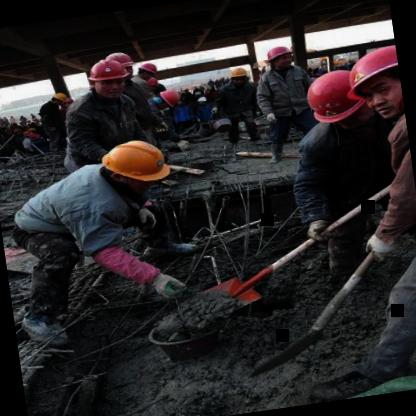helmet: (335, 38, 406, 128), (89, 130, 178, 199), (302, 66, 370, 132), (84, 51, 139, 98), (259, 40, 303, 75), (152, 86, 188, 114), (130, 57, 168, 83), (226, 62, 255, 88), (43, 88, 69, 109)
